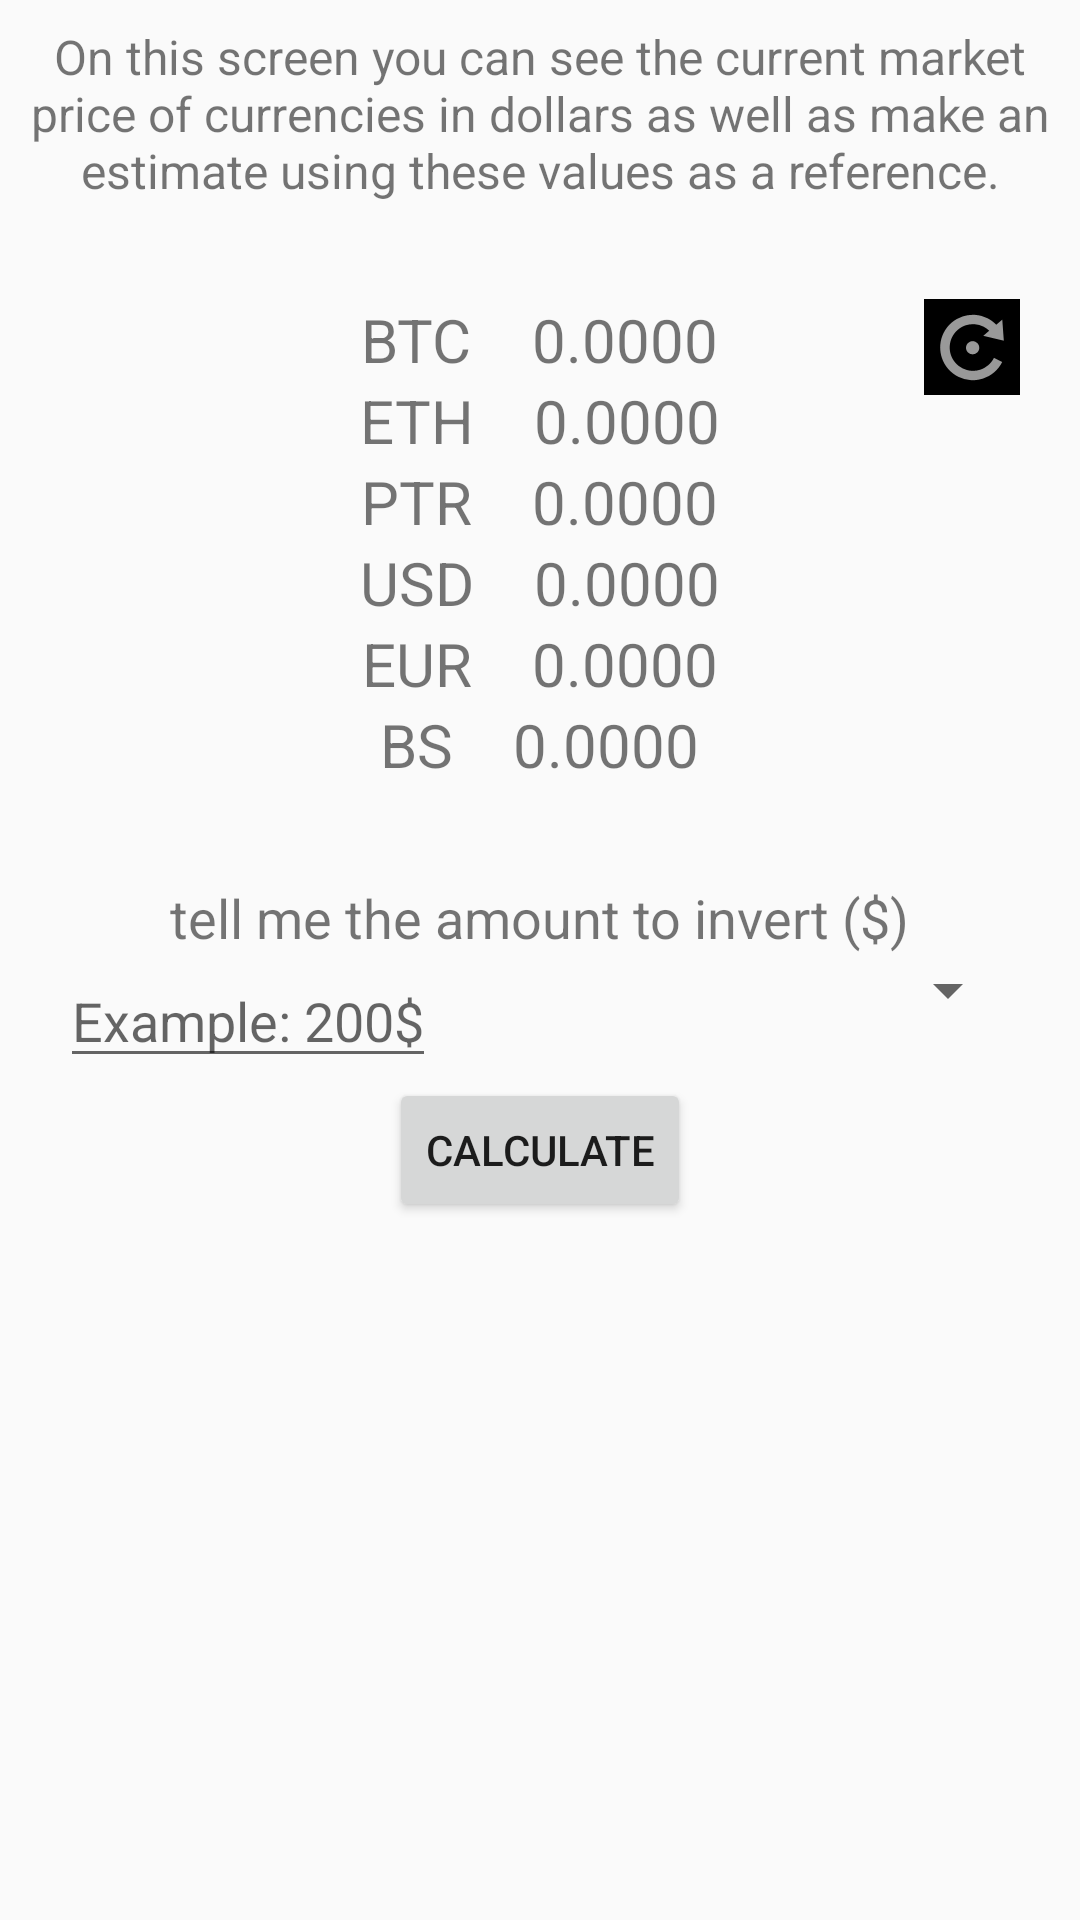

Point at icon controls on the screen. Image size 1080 x 1920, points as (x=x, y=y).
rotate: (x=972, y=347)
